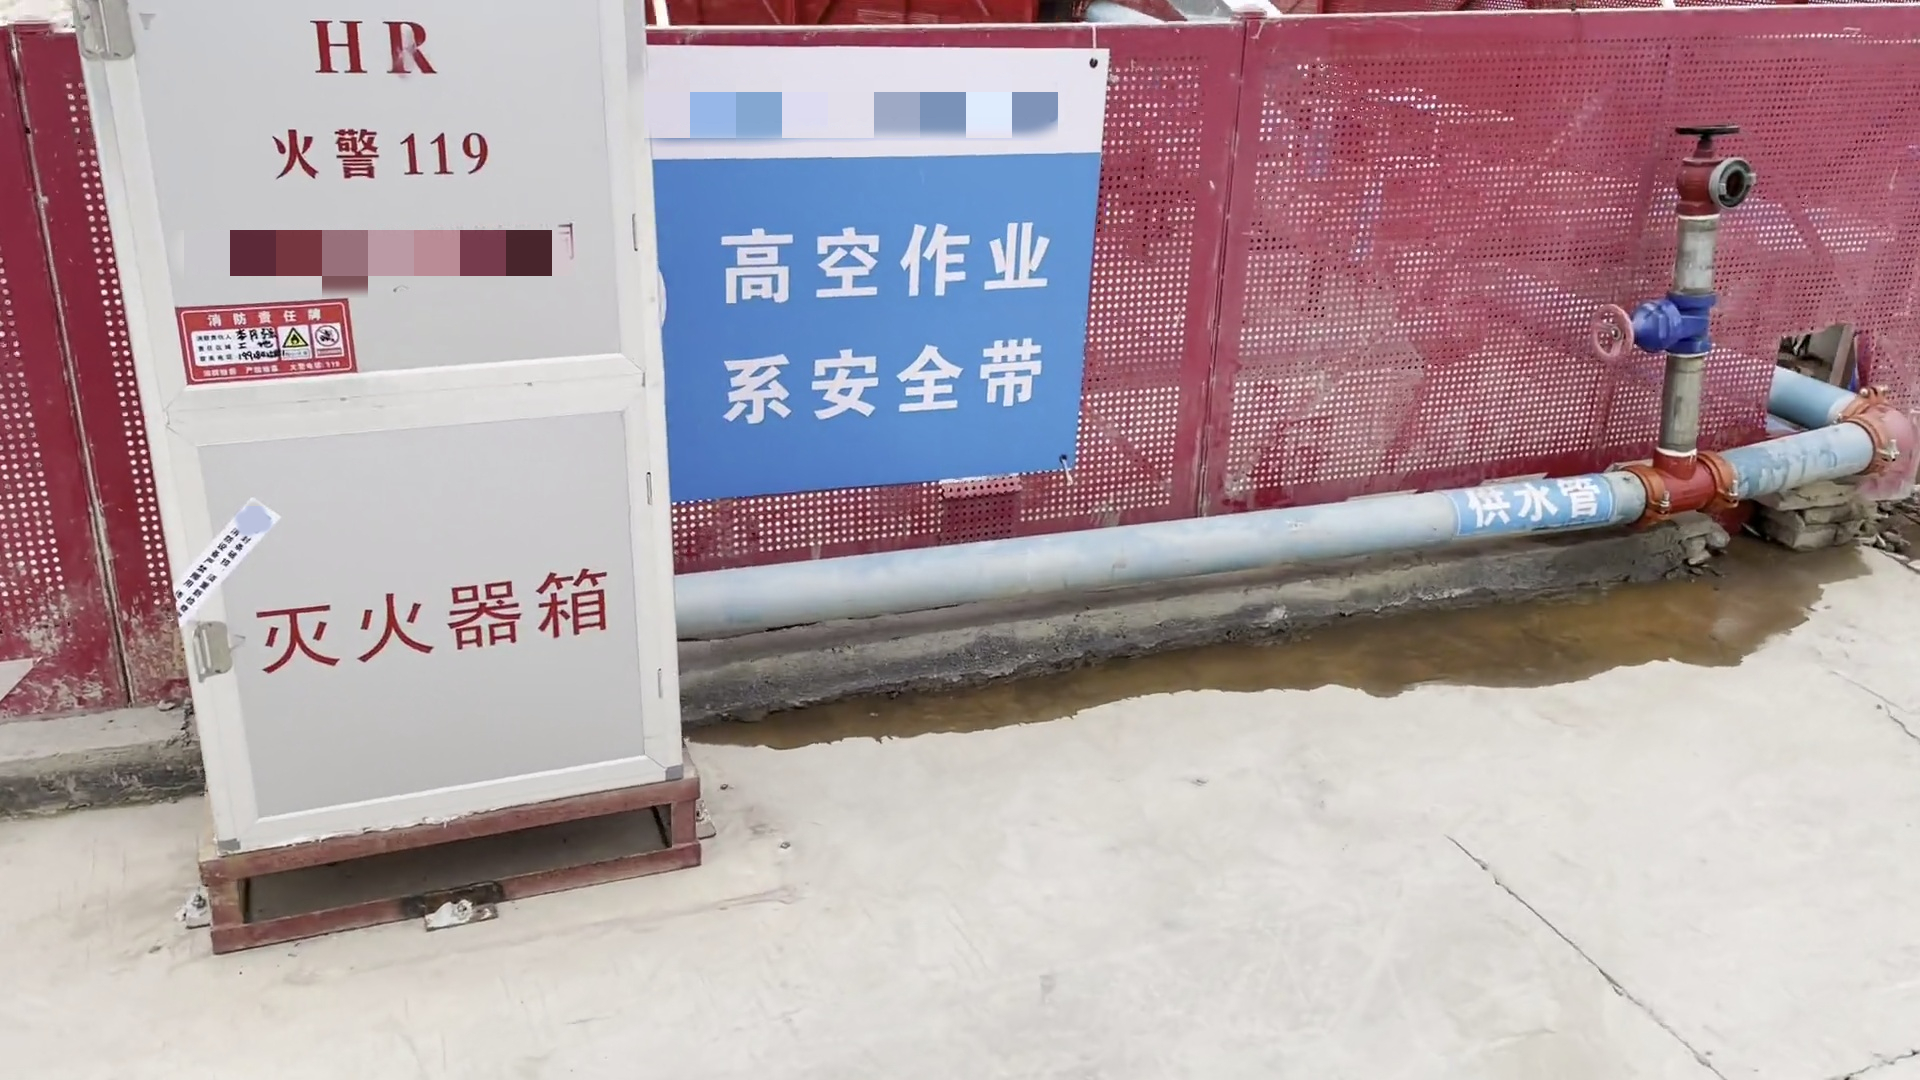fence: (1112, 44, 1913, 593)
slogan: (670, 170, 1059, 427)
